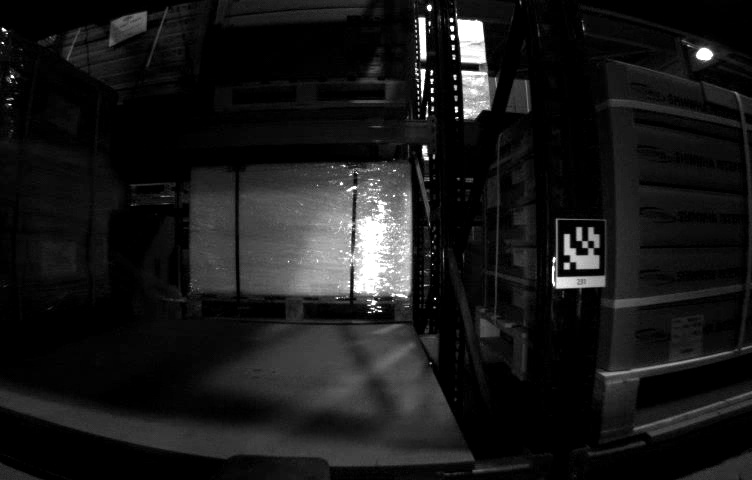True Barcode: (668, 314, 709, 357)
